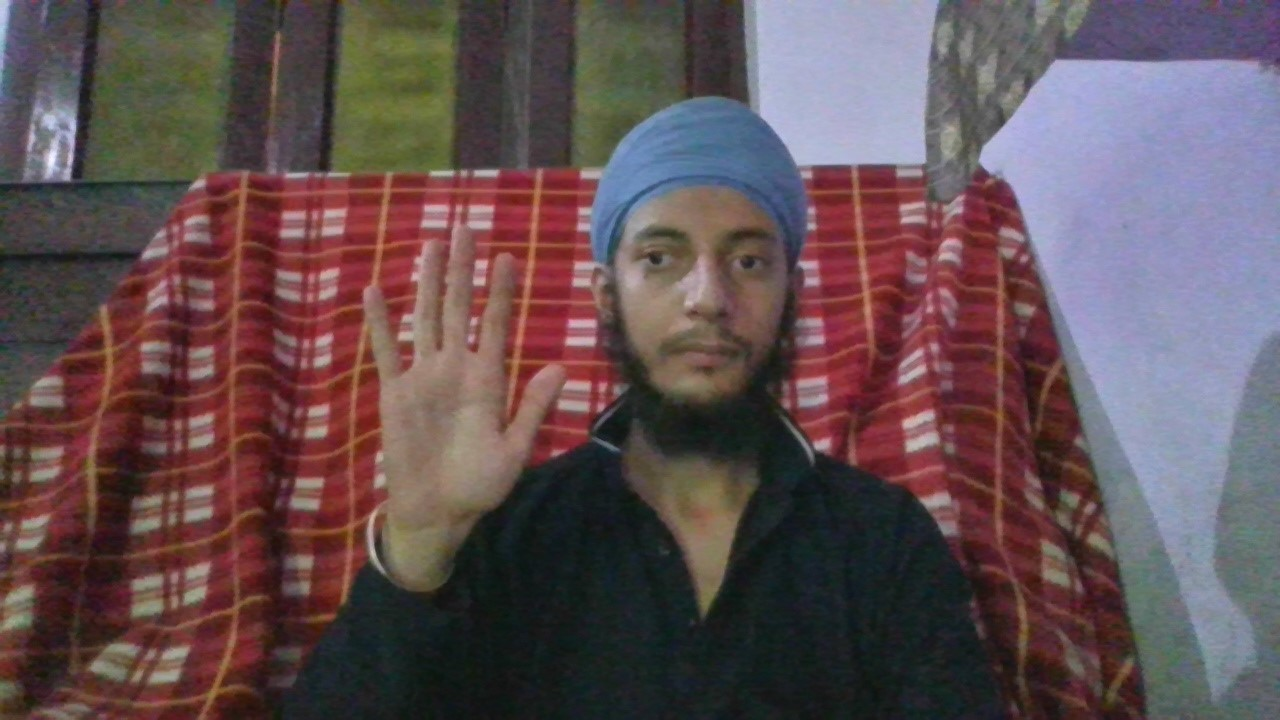Hello: (359, 222, 569, 527)
